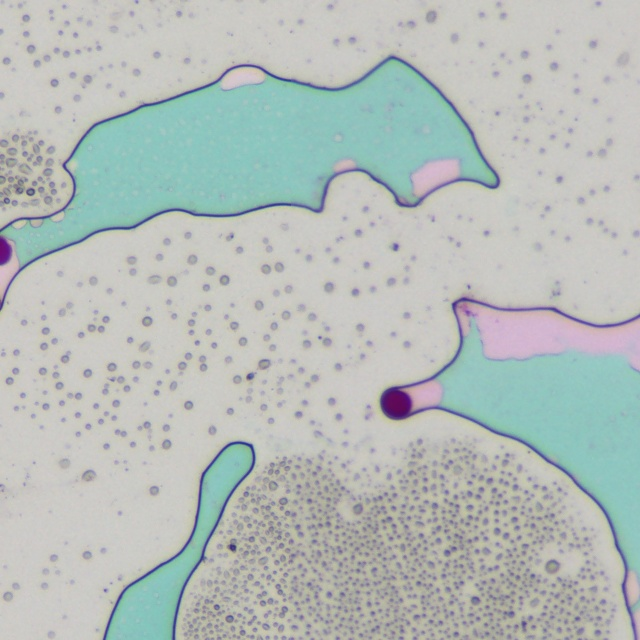viable: (381, 390, 411, 419), (1, 237, 11, 264)
